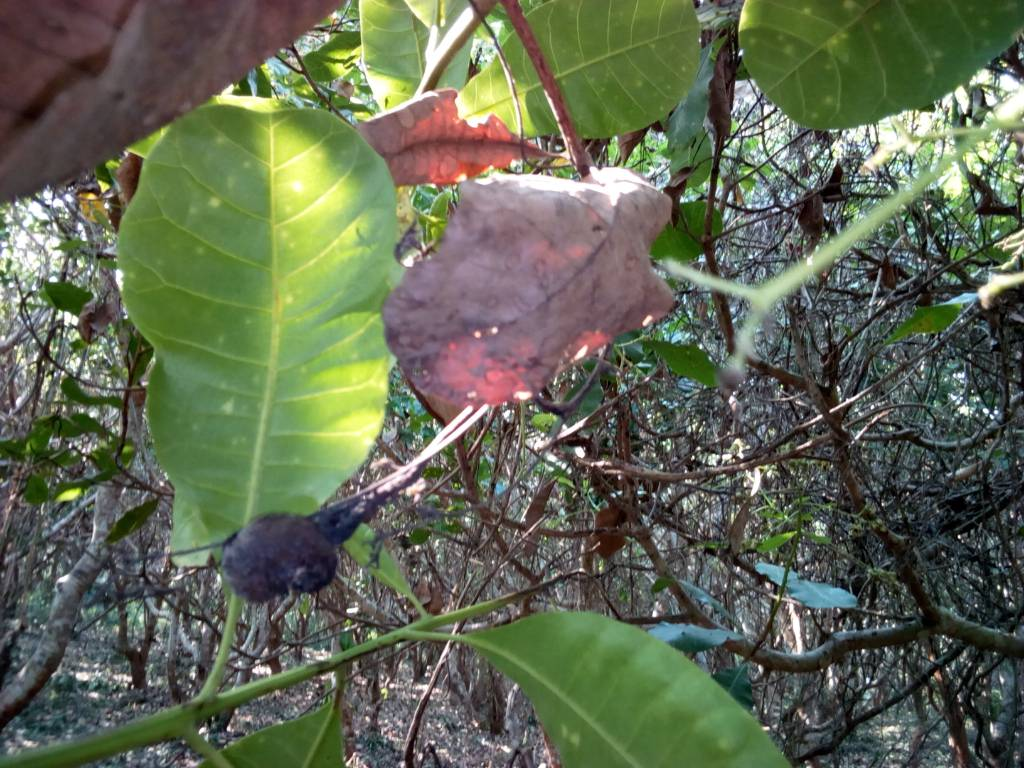Alternariose: (125, 105, 397, 556), (736, 1, 1020, 128), (452, 1, 701, 137)
